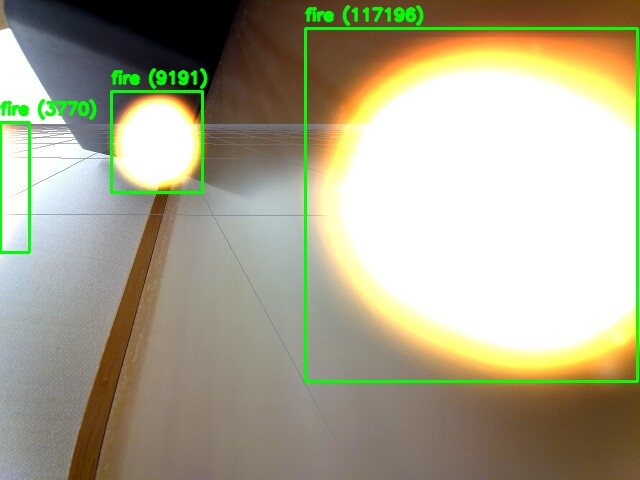fire: (305, 28, 637, 381), (111, 91, 202, 192), (0, 122, 29, 252)
